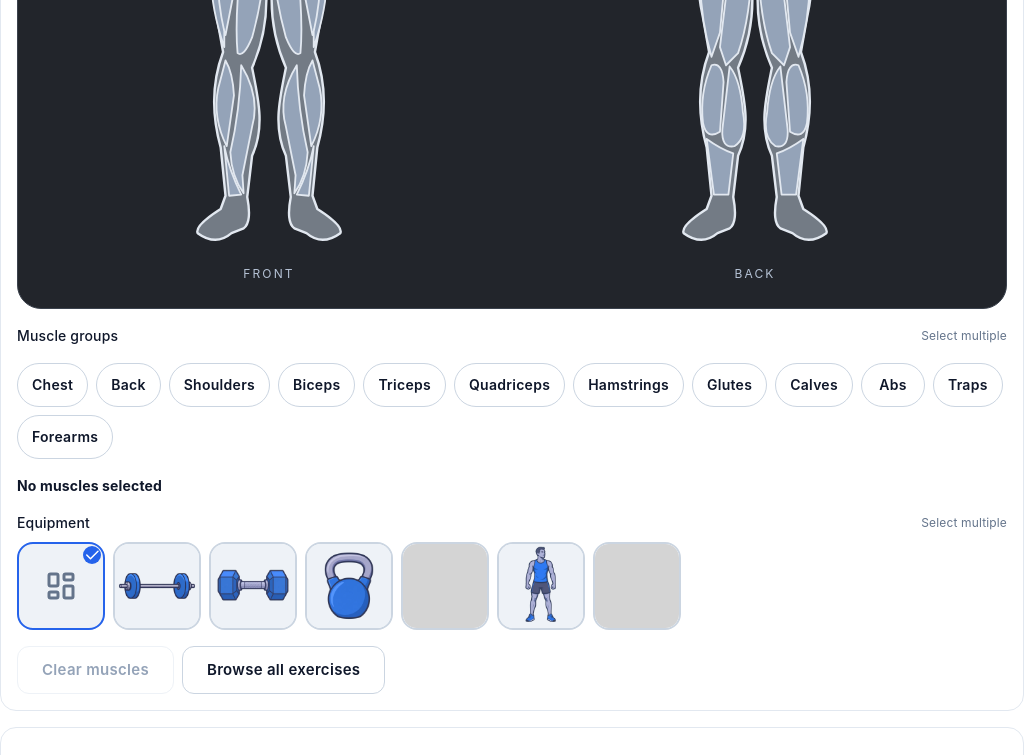
EXERCISE-012 EXERCISE-013 EXERCISE-014 EXERCISE-015 ExerciseDiscovery › shows distinct failure and retries the same criteria
(page scrolled)
Click the button "Chest" at (53, 385), box [17,363,88,407]
(page scrolled)
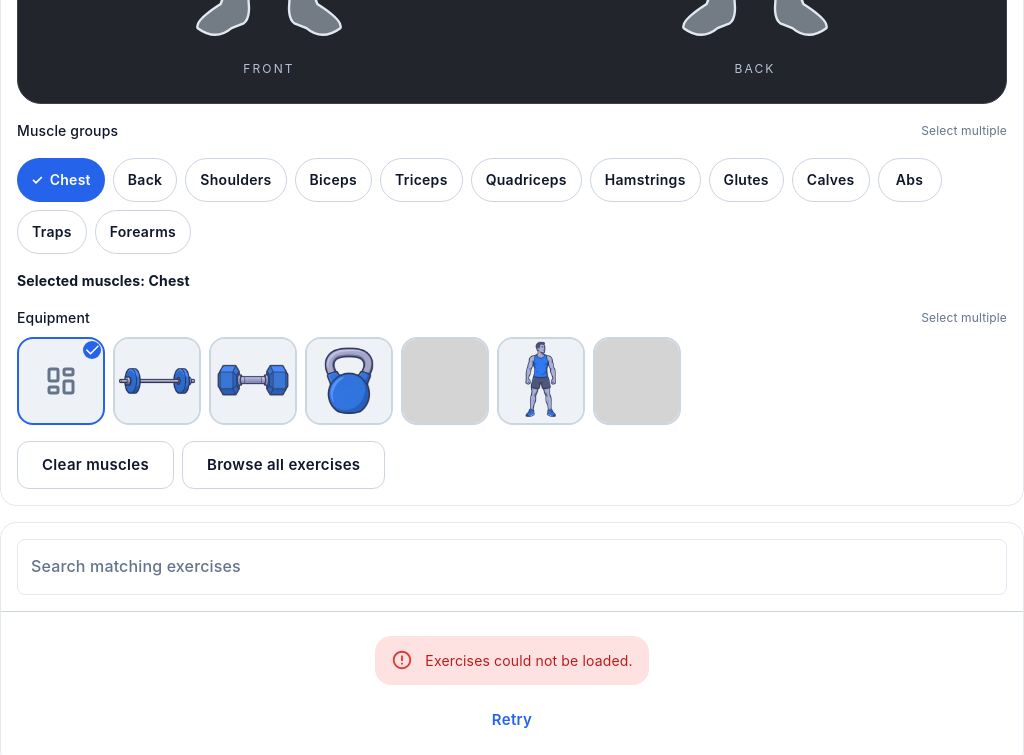
Result: the text "Exercises could not be loaded." is shown at [425,652,633,669]
Click the button "Retry" at (512, 720), box [468,697,556,744]
(page scrolled)
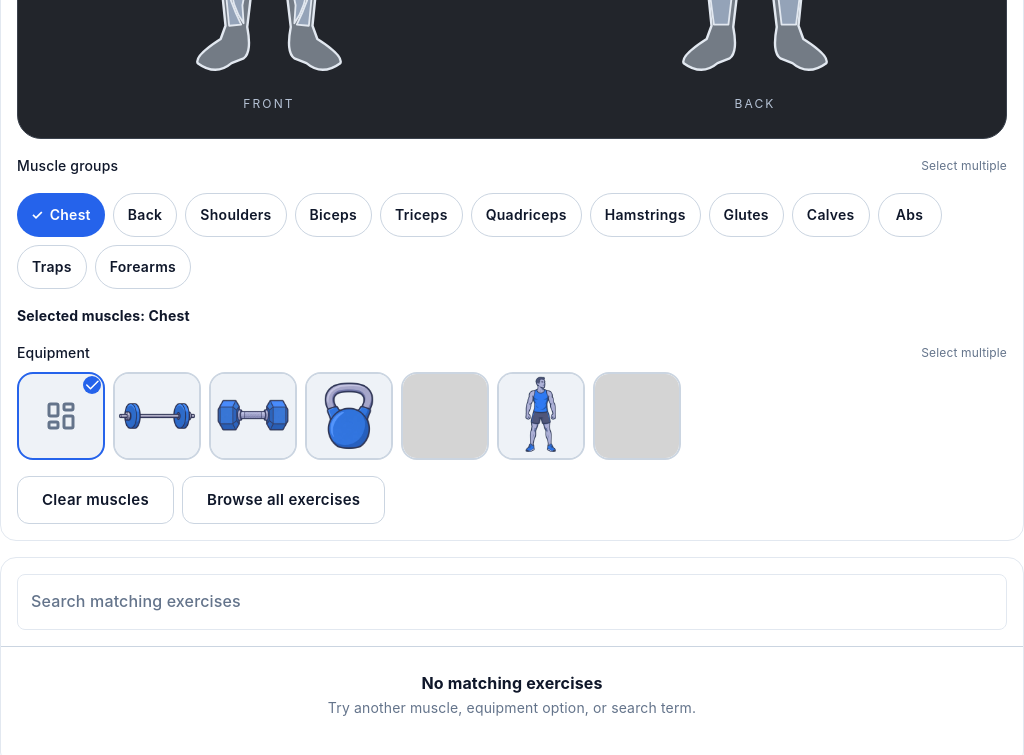
Result: the text "No matching exercises" is shown at [421,673,603,693]
